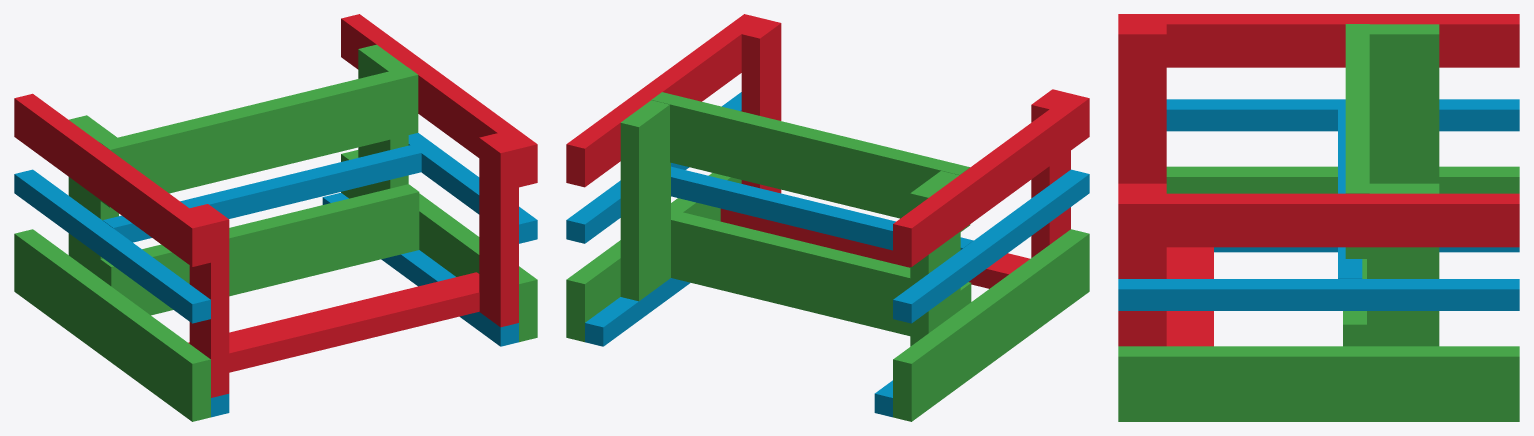
Rendered from tinker.obj.
The picture shows the model from 3 angles, left to right: view 1: azimuth 30°, elevation 25°; view 2: azimuth 150°, elevation 25°; view 3: azimuth 270°, elevation 25°; orthographic projection. The views are drawn at different scales.
Parts seen in each view (by area): view 1: group_0_4634441, group_0_15277357, group_0_40919; view 2: group_0_4634441, group_0_15277357, group_0_40919; view 3: group_0_4634441, group_0_15277357, group_0_40919.
Part boxes in pixels (x1,y1,x2,y2): group_0_4634441: (14, 44, 537, 421); group_0_15277357: (14, 14, 537, 397); group_0_40919: (14, 133, 537, 417); group_0_4634441: (566, 92, 1089, 421); group_0_15277357: (566, 14, 1089, 288); group_0_40919: (566, 92, 1089, 417); group_0_4634441: (1118, 24, 1519, 421); group_0_15277357: (1118, 14, 1519, 346); group_0_40919: (1118, 99, 1519, 310).
Size of the model in its own units: 224 by 120 by 200.
